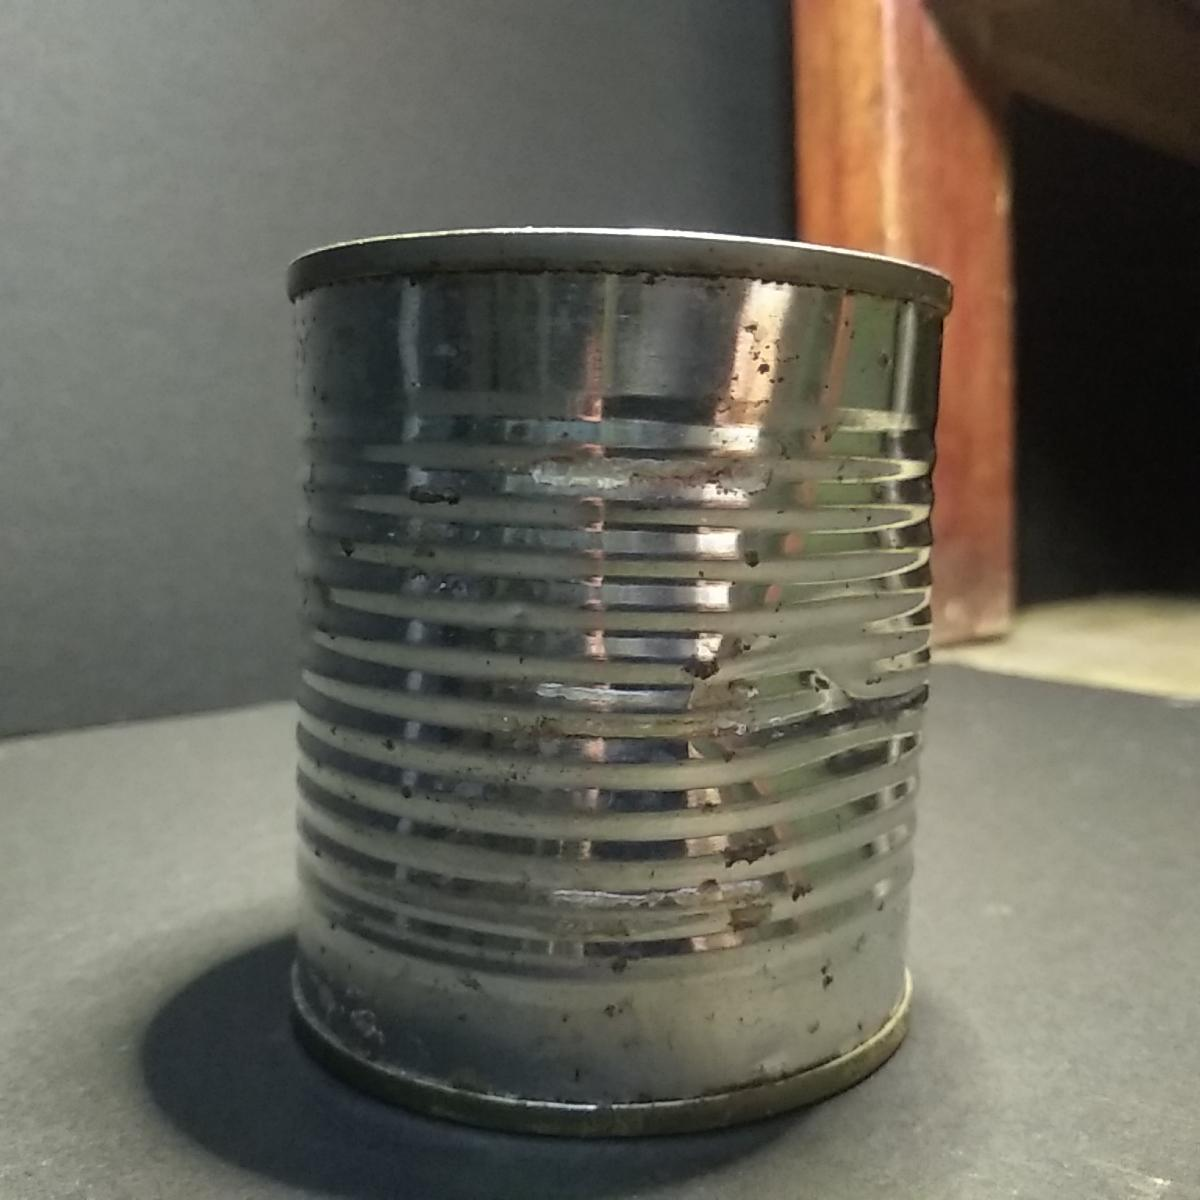Dented: (270, 210, 973, 1144)
